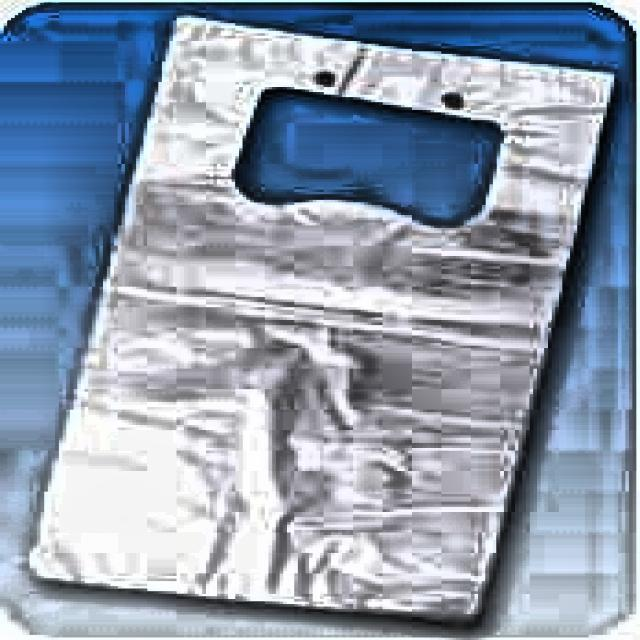Plastic: (35, 11, 622, 626)
